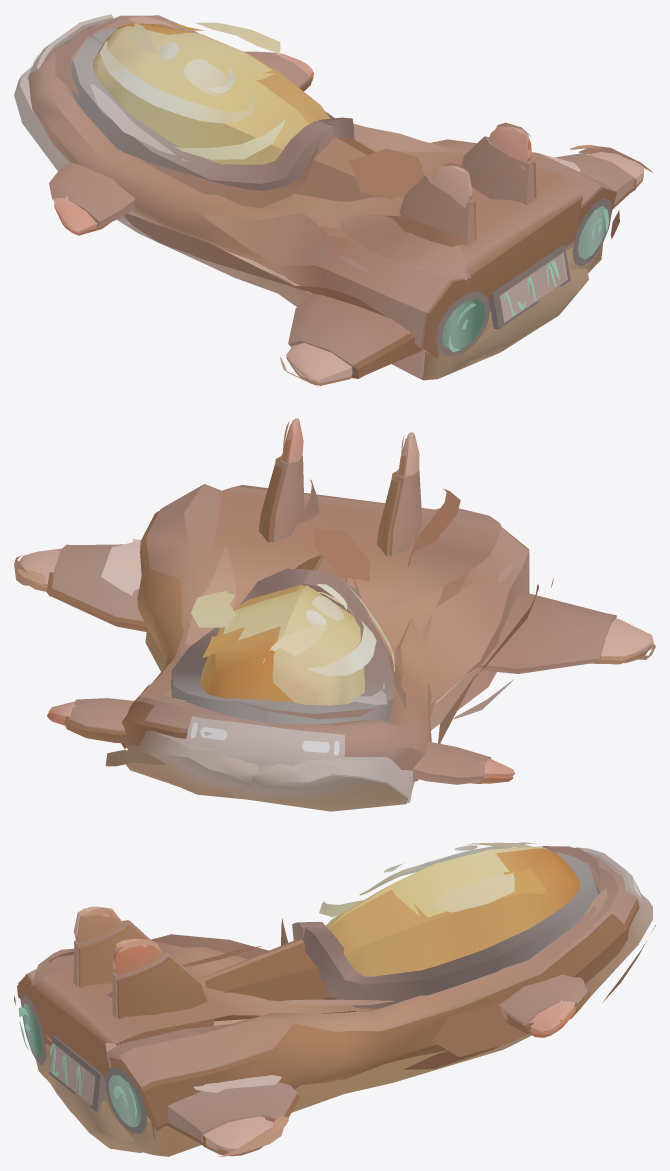
3 views of the same model, one above another, from view 1: azimuth 30°, elevation 25°; view 2: azimuth 150°, elevation 25°; view 3: azimuth 270°, elevation 25° (orthographic). The views are drawn at different scales.
Visible parts, largest first — view 1: Ship_0006; view 2: Ship_0006; view 3: Ship_0006.
Boxes of the visible parts, box(x1,y1,x2,y2) form: Ship_0006: box(14, 14, 653, 387); Ship_0006: box(14, 418, 655, 811); Ship_0006: box(14, 842, 655, 1156).
Bounding box in the file's own units: 11.86 × 4.75 × 12.92.
